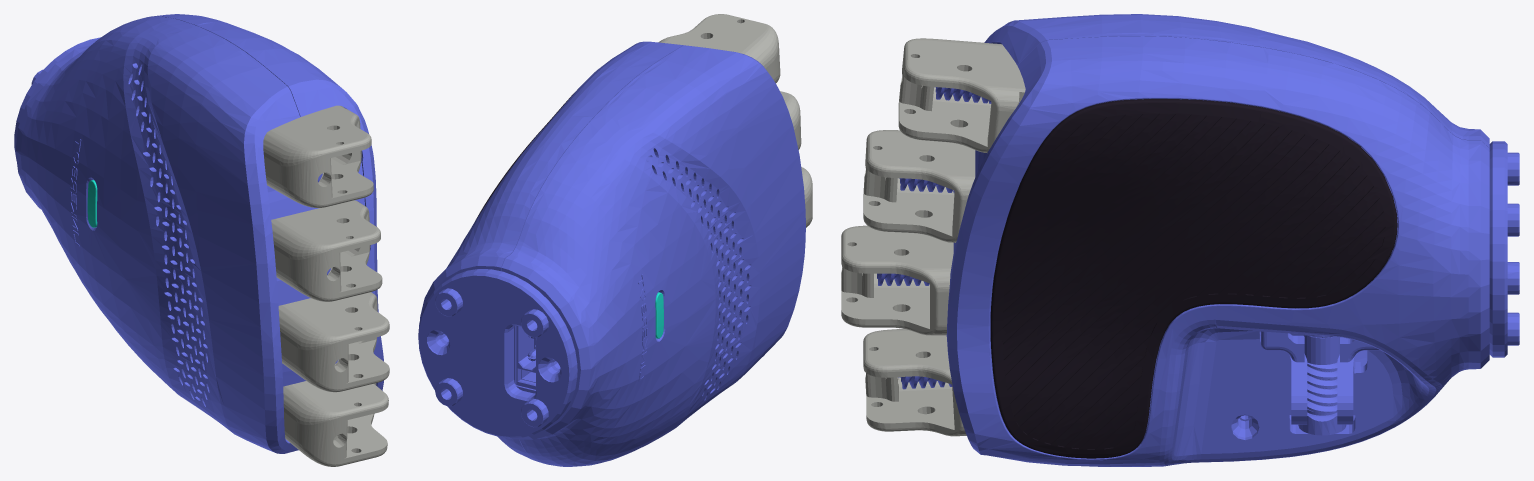
Rendered from lh_hand_base_link_vis.glb.
3 views of the same model, side by side, from view 1: azimuth 30°, elevation 25°; view 2: azimuth 150°, elevation 25°; view 3: azimuth 270°, elevation 25° (orthographic). The views are drawn at different scales.
Visible parts, largest first — view 1: world; view 2: world; view 3: world.
Boxes of the visible parts, x1=… form: world: x1=14, y1=14, x2=389, y2=466; world: x1=418, y1=14, x2=812, y2=466; world: x1=841, y1=14, x2=1519, y2=466.
Size of the model in its own units: 0.04 by 0.0767 by 0.1127.
1 material, 1 textured.
